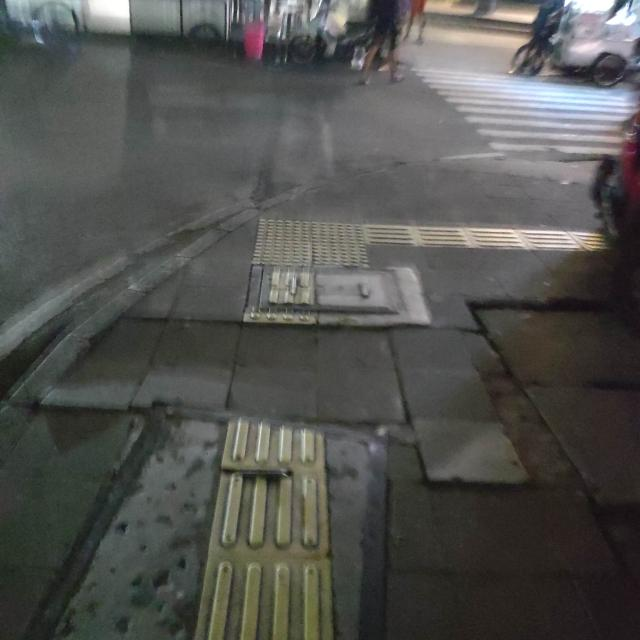kanan: (242, 201, 466, 285)
